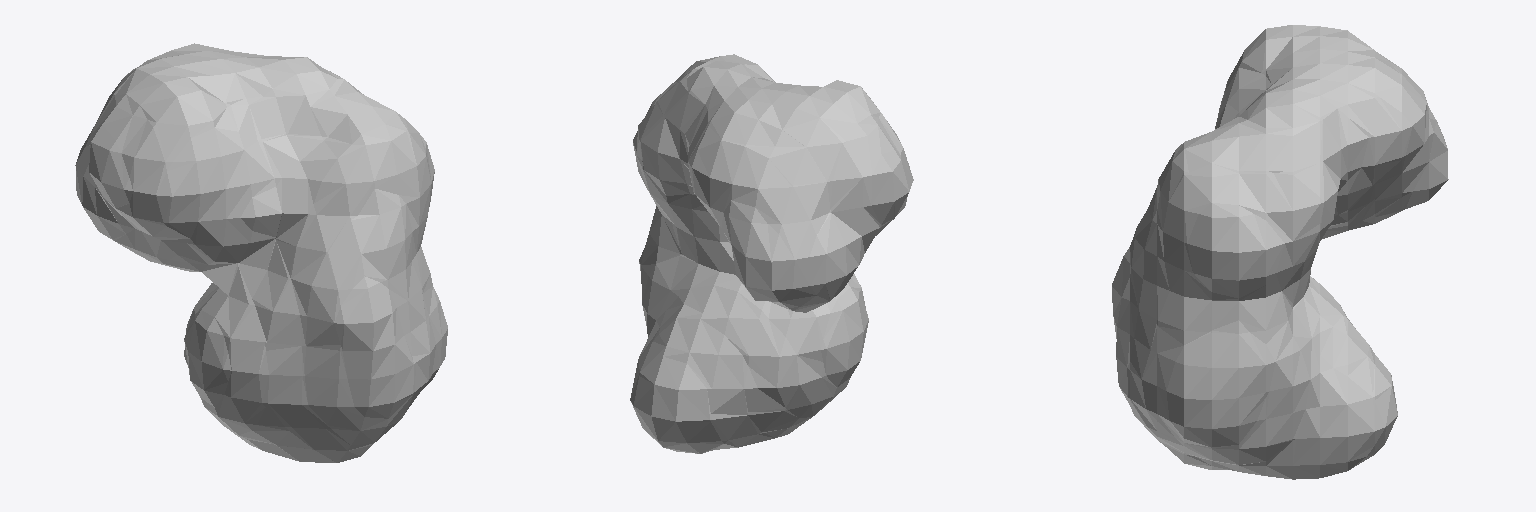
Rendered from 1l8q_cms.obj.
The picture shows the model from 3 angles: view 1: azimuth 30°, elevation 25°; view 2: azimuth 150°, elevation 25°; view 3: azimuth 270°, elevation 25°; orthographic projection.
Bounding box in the file's own units: 63.25 × 77.37 × 62.26.